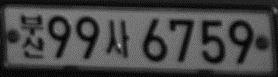5: (201, 19, 225, 64)
6: (141, 17, 168, 62)
7: (169, 18, 193, 61)
9: (228, 19, 254, 63), (75, 15, 100, 58), (47, 14, 71, 58)
부산_V: (20, 14, 45, 58)
사: (105, 19, 129, 57)
